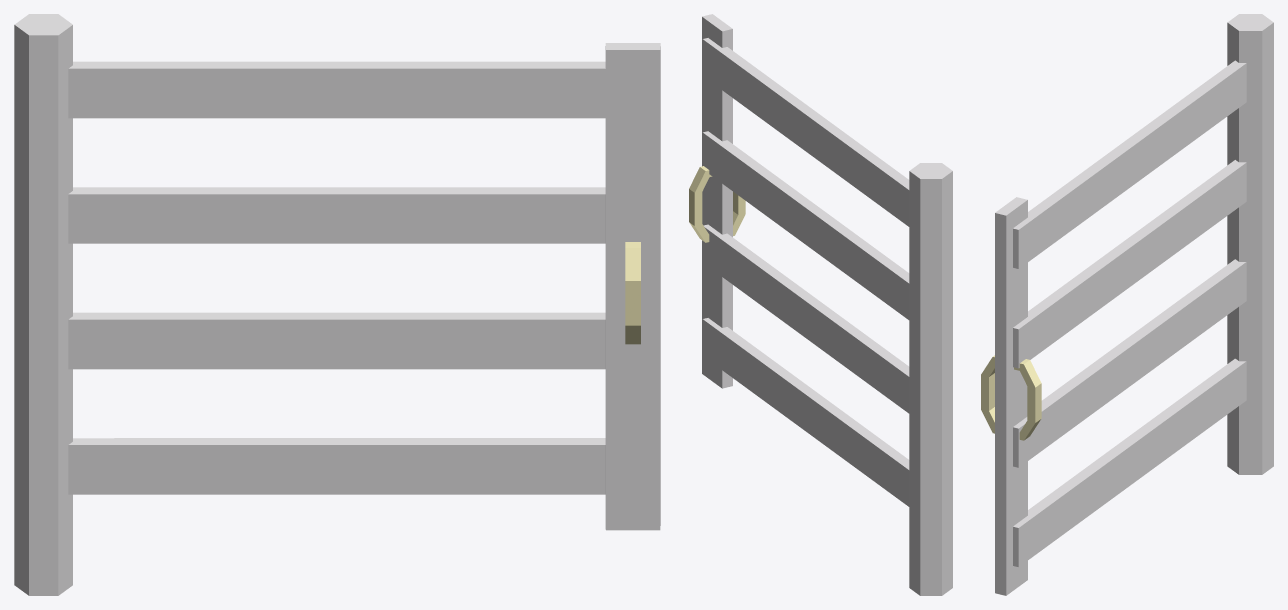
Rendered from SM_fence_023.obj.
The picture shows the model from 3 angles, left to right: view 1: azimuth 30°, elevation 25°; view 2: azimuth 150°, elevation 25°; view 3: azimuth 270°, elevation 25°; orthographic projection. The views are drawn at different scales.
Visible parts, largest first — view 1: SM_fence_023_M_Material; view 2: SM_fence_023_M_Material; view 3: SM_fence_023_M_Material.
Boxes of the visible parts, x1,y1,x2,y2 form: SM_fence_023_M_Material: (14, 14, 660, 595); SM_fence_023_M_Material: (689, 14, 952, 595); SM_fence_023_M_Material: (981, 14, 1273, 595).
Bounding box in the file's own units: 1.53 × 1.69 × 1.01.
Materials: 1 (1 with a texture image).
